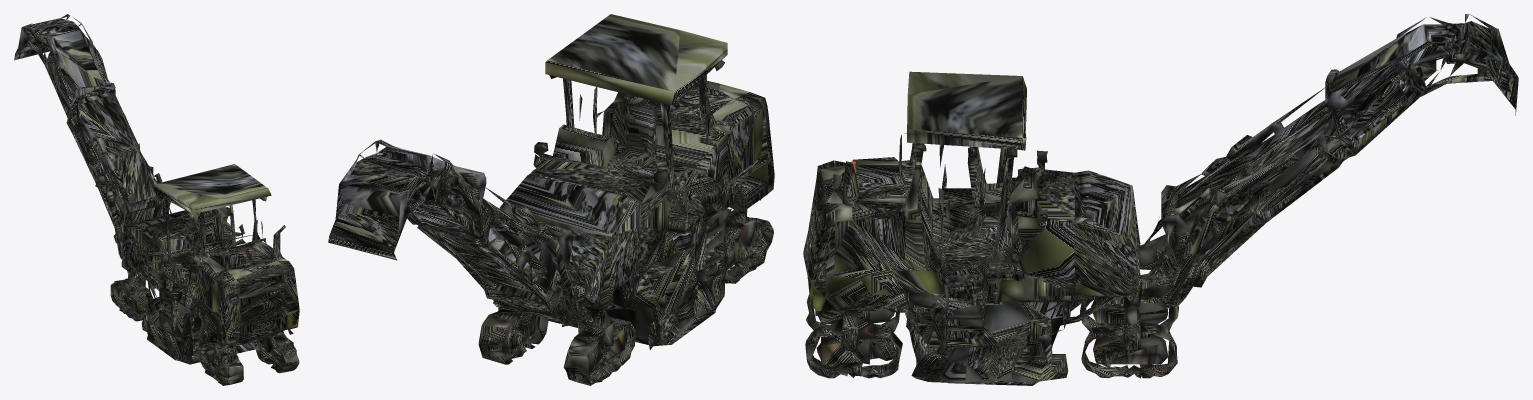
Rendered from fresadora_lod1.glb.
The picture shows the model from 3 angles, left to right: view 1: azimuth 30°, elevation 25°; view 2: azimuth 150°, elevation 25°; view 3: azimuth 270°, elevation 25°; orthographic projection. The views are drawn at different scales.
Visible parts, largest first — view 1: tripo_node_069fbbce-5576-4601-ac02-64eb2a6f24a1; view 2: tripo_node_069fbbce-5576-4601-ac02-64eb2a6f24a1; view 3: tripo_node_069fbbce-5576-4601-ac02-64eb2a6f24a1.
Boxes of the visible parts, x1=… form: tripo_node_069fbbce-5576-4601-ac02-64eb2a6f24a1: x1=14, y1=14, x2=299, y2=385; tripo_node_069fbbce-5576-4601-ac02-64eb2a6f24a1: x1=328, y1=14, x2=774, y2=385; tripo_node_069fbbce-5576-4601-ac02-64eb2a6f24a1: x1=803, y1=14, x2=1518, y2=385.
Bounding box in the file's own units: 3.06 × 6.28 × 12.5.
Materials: 1 (1 with a texture image).
